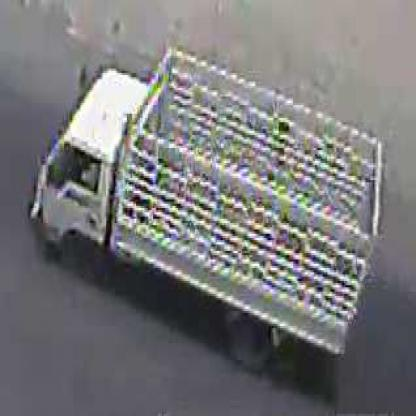truck: (34, 51, 383, 381)
